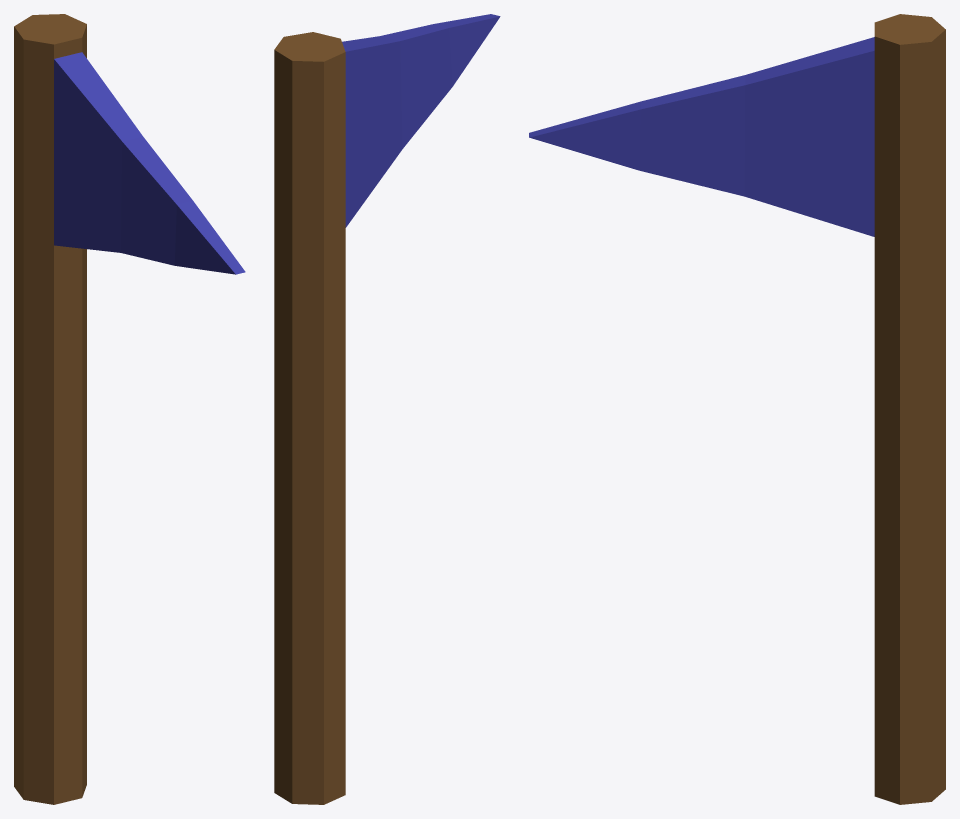
The model's file is flagPoleBlue.fbx.
3 renders of one model, left to right at view 1: azimuth 30°, elevation 25°; view 2: azimuth 150°, elevation 25°; view 3: azimuth 270°, elevation 25°, orthographic. The views are drawn at different scales.
Parts seen in each view (by area): view 1: Cylinder; view 2: Cylinder; view 3: Cylinder.
Boxes of the visible parts, x1=… form: Cylinder: x1=14, y1=14, x2=245, y2=804; Cylinder: x1=274, y1=14, x2=500, y2=804; Cylinder: x1=529, y1=14, x2=945, y2=804.
Bounding box in the file's own units: 29.25 × 336 × 167.
